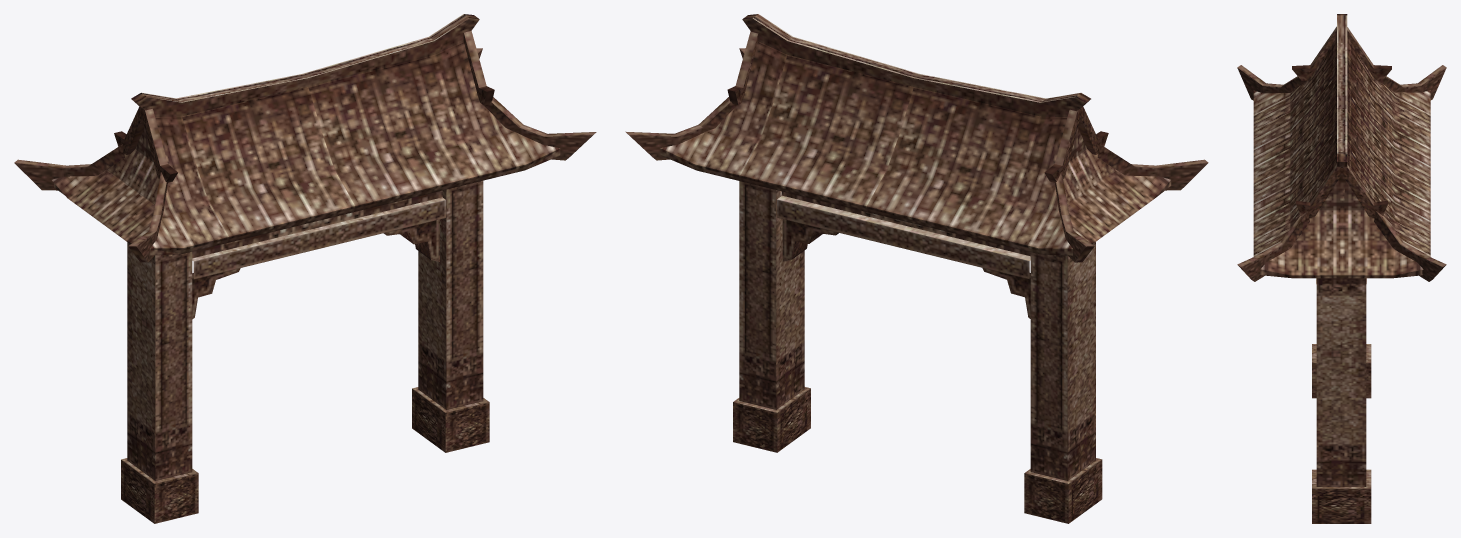
Rendered from general_obj_stonedoor.glb.
3 renders of one model, left to right at view 1: azimuth 30°, elevation 25°; view 2: azimuth 150°, elevation 25°; view 3: azimuth 270°, elevation 25°, orthographic. The views are drawn at different scales.
Parts seen in each view (by area): view 1: Object05; view 2: Object05; view 3: Object05.
Part boxes in pixels (<box>): Object05: <box>14,14,596,523</box>; Object05: <box>625,14,1208,523</box>; Object05: <box>1237,14,1446,523</box>.
Bounding box in the file's own units: 11.16 × 9.44 × 4.89.
1 material, 1 textured.
